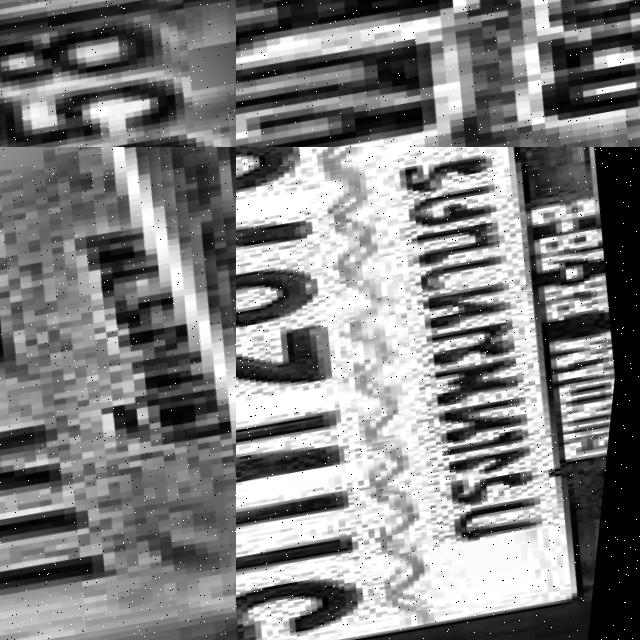license-plate: (236, 147, 640, 640), (0, 147, 236, 640), (236, 0, 640, 147), (0, 0, 236, 147)
